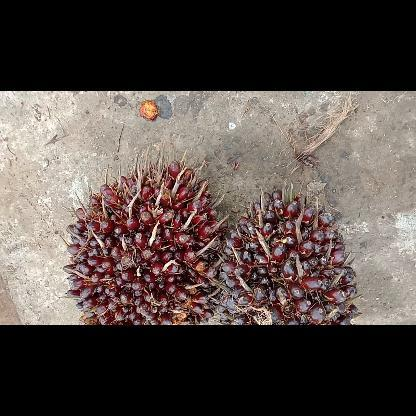Kurang masak: (220, 184, 362, 324)
TBS masak: (66, 158, 220, 324)
